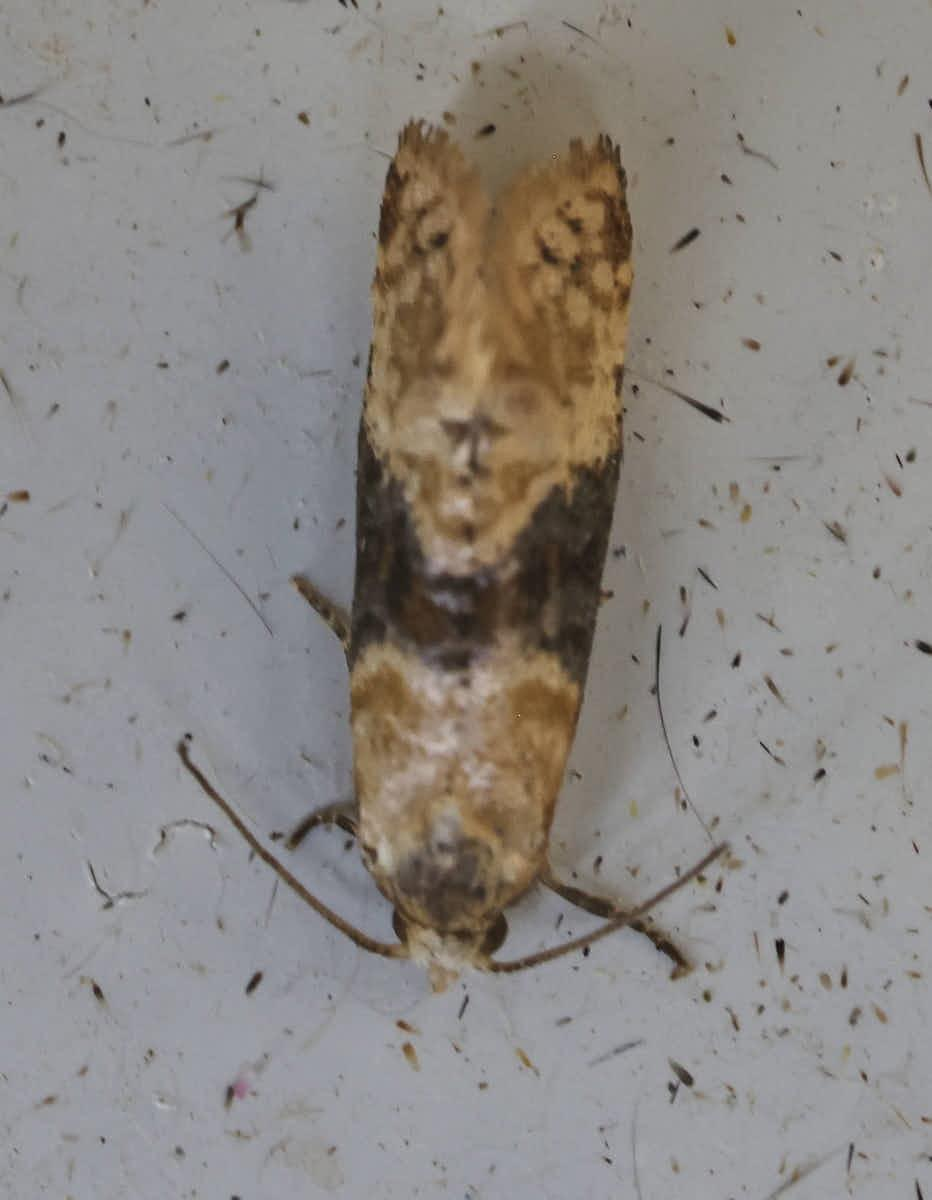Eupoecilia Ambiguella: (175, 113, 729, 994)
